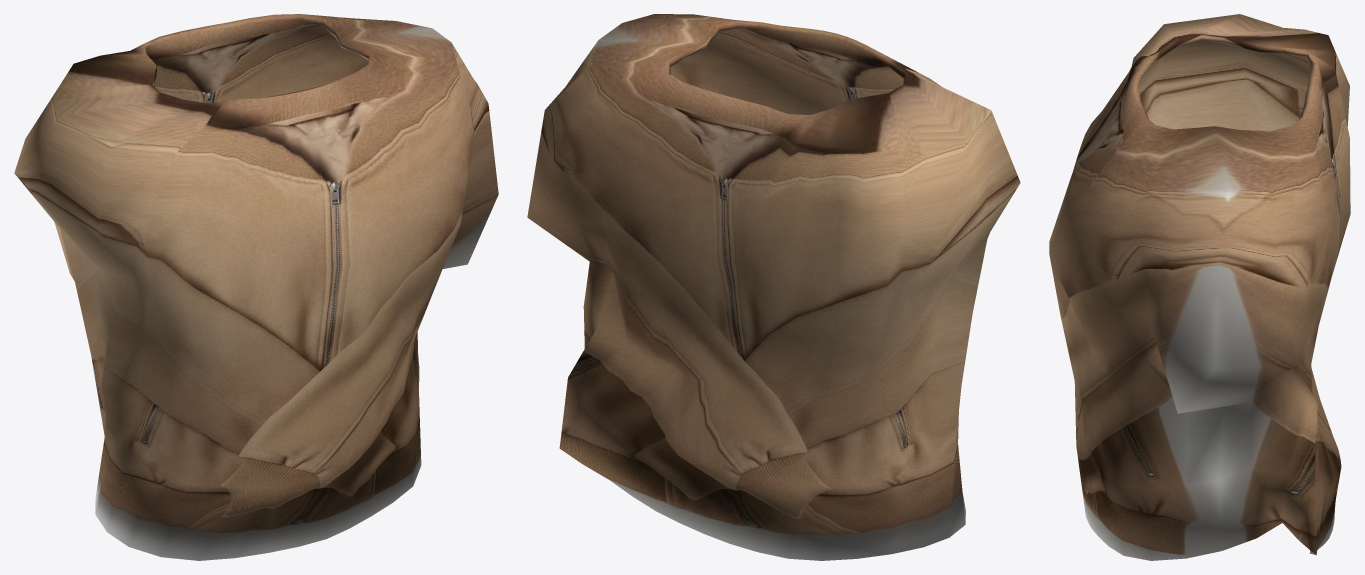
Rendered from dd6dab50-864d-4419-b5ef-9f49503fc61b.glb.
The picture shows the model from 3 angles, left to right: view 1: azimuth 30°, elevation 25°; view 2: azimuth 150°, elevation 25°; view 3: azimuth 270°, elevation 25°; orthographic projection.
Visible parts, largest first — view 1: garment; view 2: garment; view 3: garment.
Boxes of the visible parts, left/top/right/bottom form: garment: left=14, top=14, right=498, bottom=560; garment: left=527, top=14, right=1020, bottom=560; garment: left=1049, top=14, right=1350, bottom=560.
Size of the model in its own units: 0.5353 by 0.5096 by 0.3185.
1 material, 1 textured.
